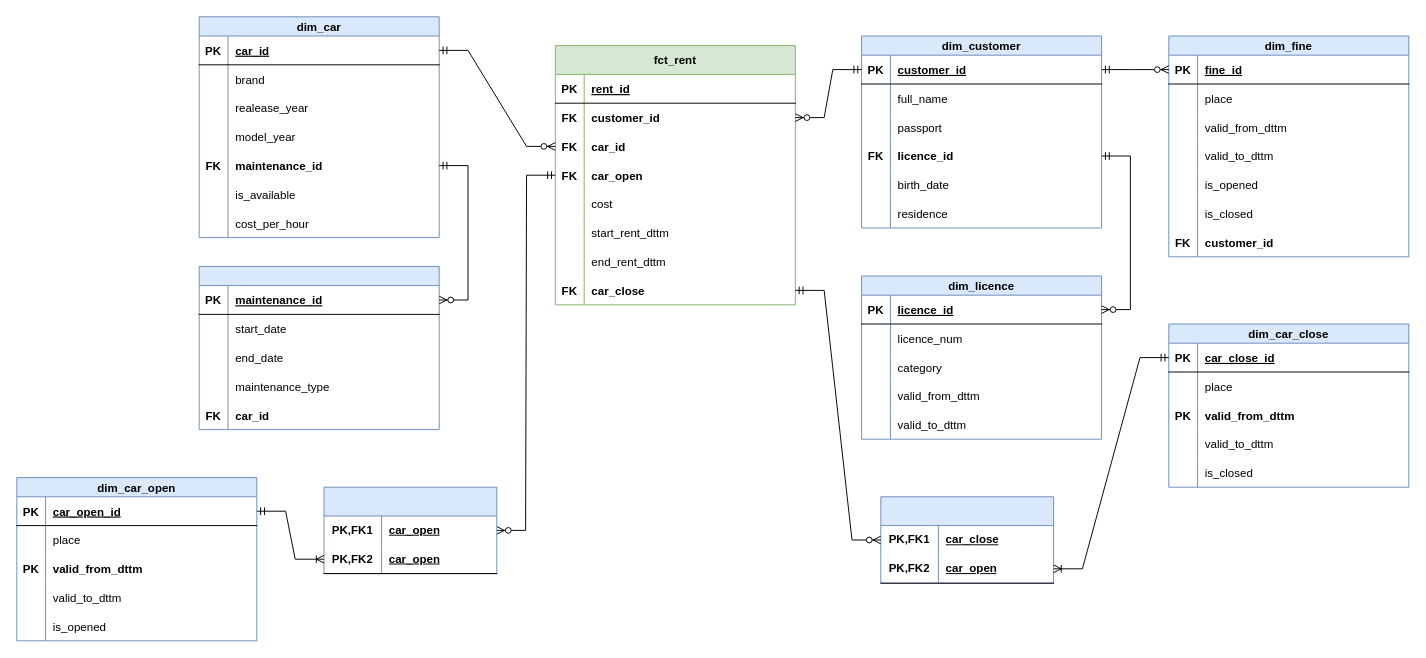
The diagram is 1426 pixels wide and 658 high, and some of its shapes have lost their labels. Here are the shapes that lost their labels. From the top down, the box of each, then its label:
(198, 265, 439, 430): dim_maintanance
(323, 486, 497, 574): rent_car_open
(880, 496, 1054, 583): rent_car_close
